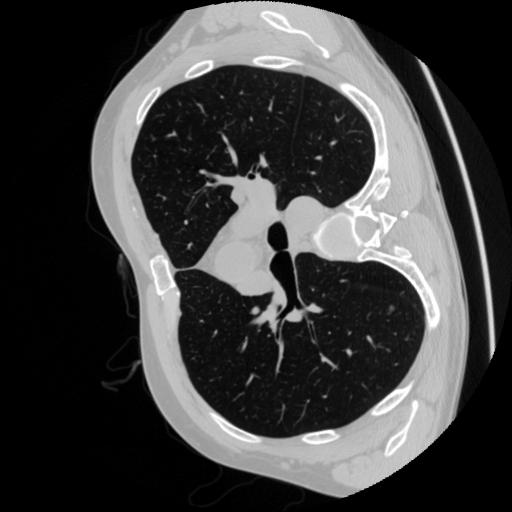nodule: (386, 303, 399, 316)
